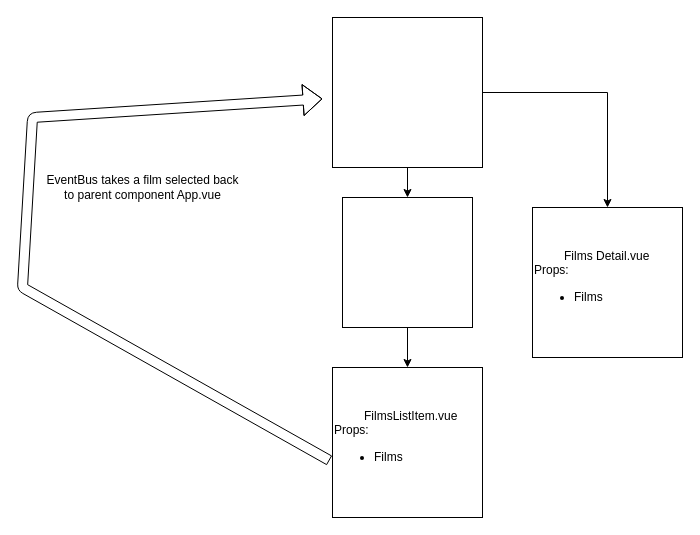
The diagram is 700 pixels wide and 535 high, and some of its shapes have lost their labels. Here are the shapes that lost their labels. From the top down, the centre of each, then its label:
point 407,92: App.vue state: Films Selected Film
point 407,262: Films List.vue Props: Films
